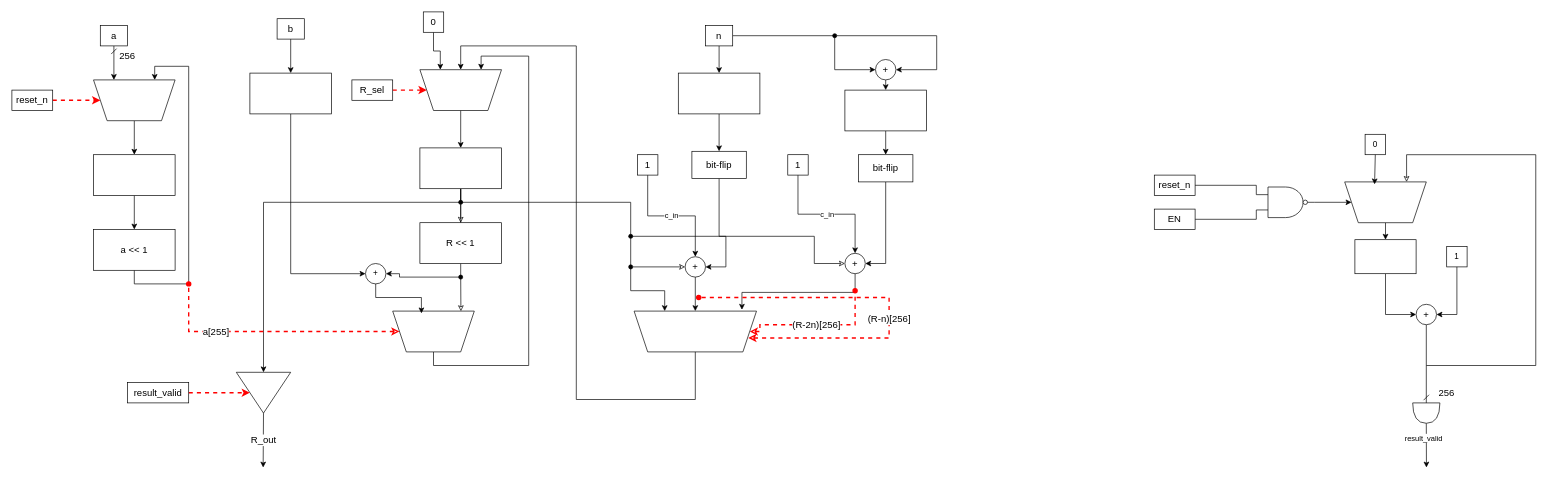
The diagram is 1553 pixels wide and 485 high, and some of its shapes have lost their labels. The centre of each missing label's shape, as x and y in pixels:
2n_reg: point 885,110
a_reg: point 134,175
b_reg: point 290,93
counter: point 1385,256
n_reg: point 719,93
R_reg: point 460,168
